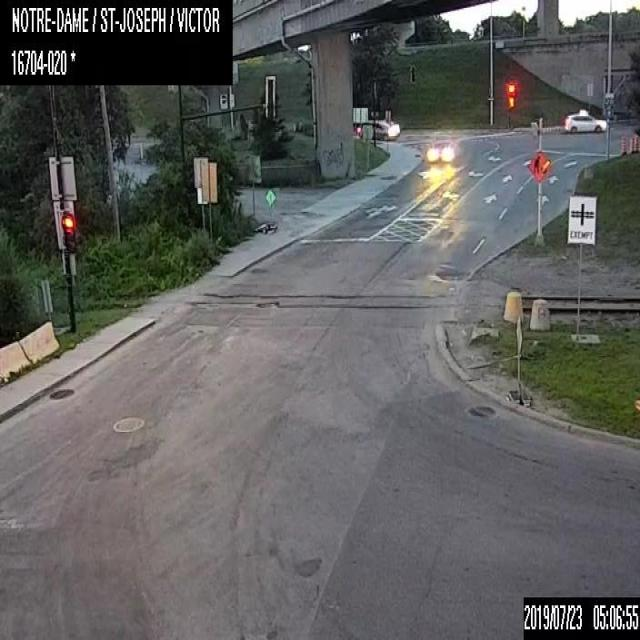construction: (526, 150, 551, 181), (634, 136, 639, 150), (630, 136, 634, 152), (621, 138, 625, 153)
vehicle: (356, 120, 399, 139), (564, 113, 606, 132), (427, 138, 455, 161)
